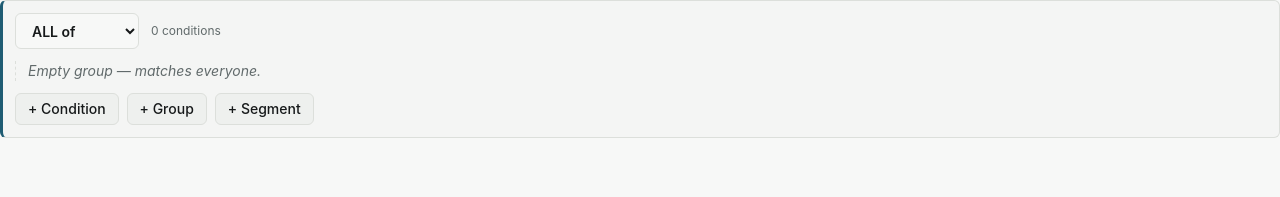
it: RuleBuilder › adds a condition
Click the button "+ Condition" at {"x": 67, "y": 109}, box [15,93,119,125]
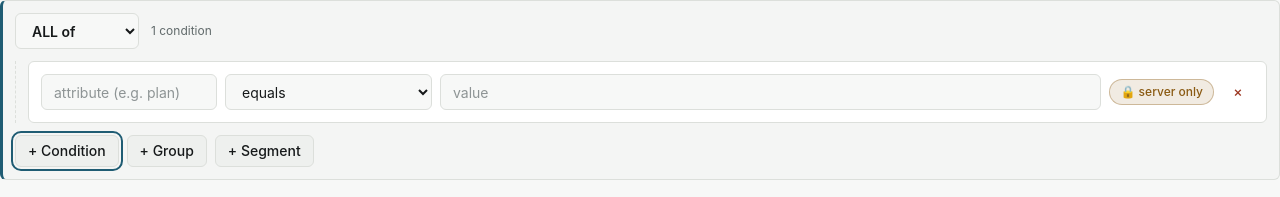
Expected: the field labelled "attribute" is shown, [41,74,217,110]
